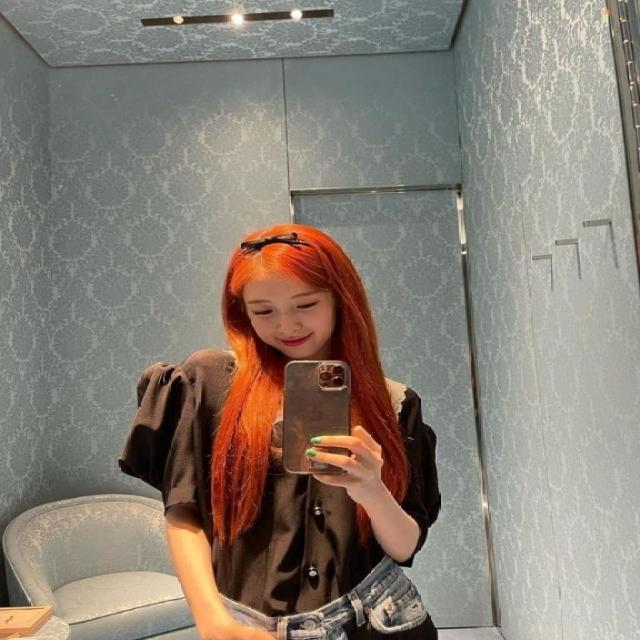phone: (282, 360, 350, 474)
